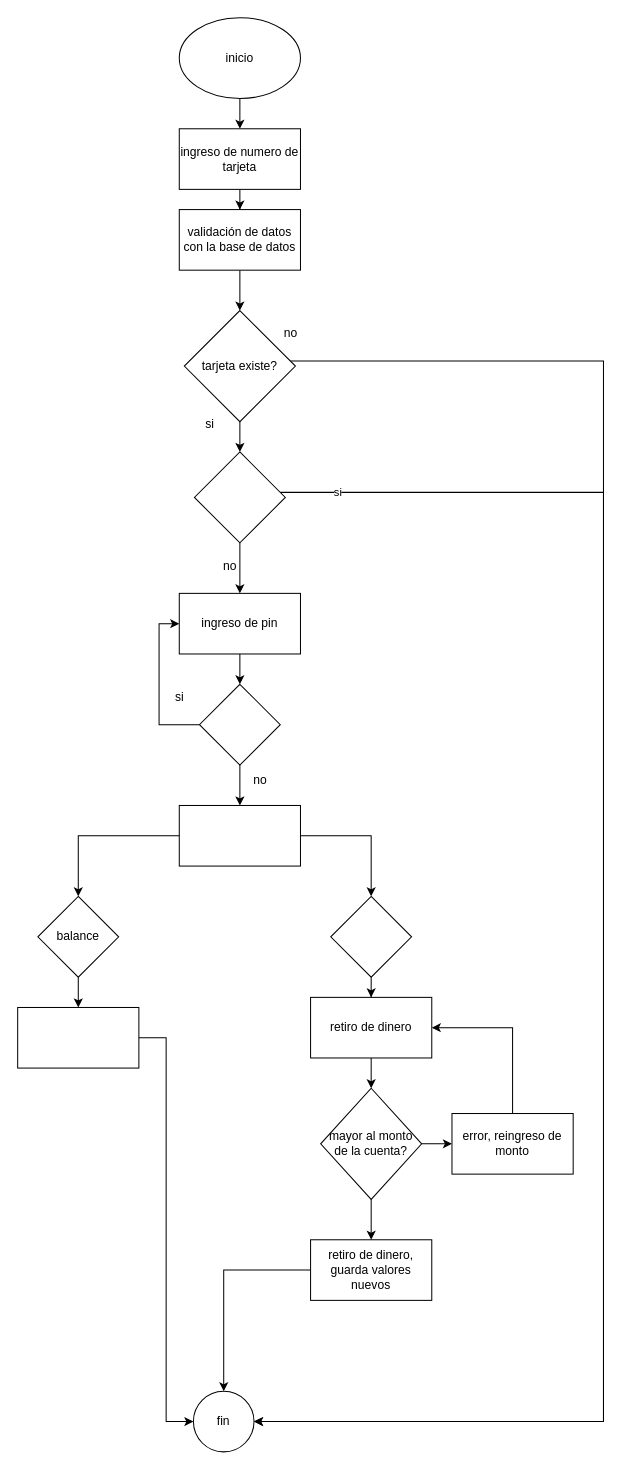
The diagram is 629 pixels wide and 1470 high, and some of its shapes have lost their labels. The centre of each missing label's shape, as x and y in pixels:
esta bloqueada?: point 239,497
incorrecto?: point 239,724
muestra el balance y registra la operación: point 78,1037
operaciones: point 239,835
retiro: point 371,936
